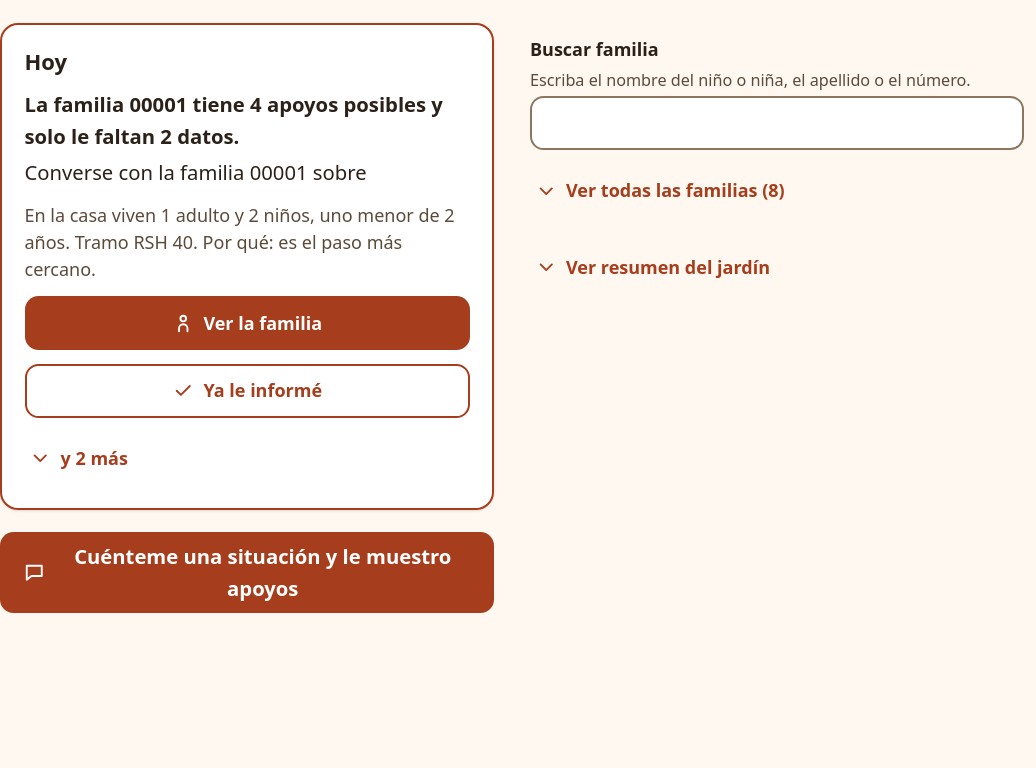
Scenario: HomePage › DEC-091: "Ya le informé" en la tarjeta Hoy pasa a la siguiente familia y deja el ✓ de memoria
Click the button "Ya le informé". click: click(247, 391)
box: left=24, top=364, right=470, bottom=418
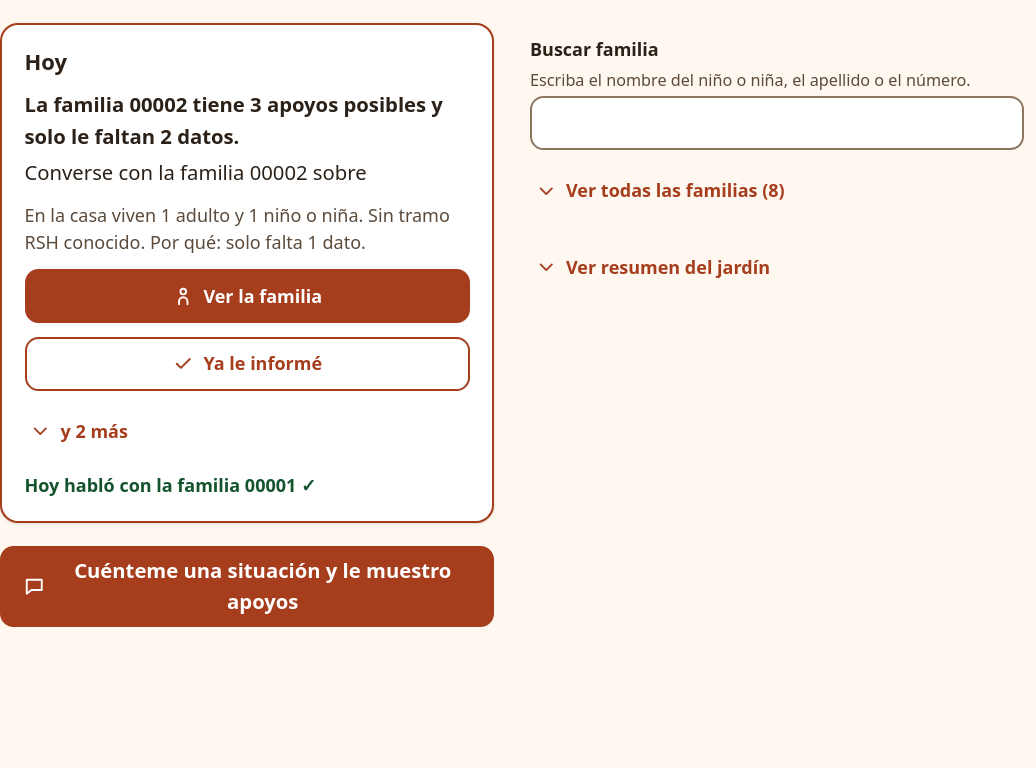
Check: the text "Hoy habló con la familia 00001 ✓" is shown, box left=24, top=473, right=316, bottom=497
